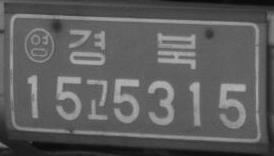1: (21, 74, 49, 118), (182, 81, 209, 126)
3: (147, 79, 175, 126)
5: (217, 82, 247, 130), (112, 77, 140, 124), (54, 75, 82, 121)
경북_D: (68, 28, 196, 70)
고: (85, 78, 110, 120)
영: (22, 26, 54, 63)
